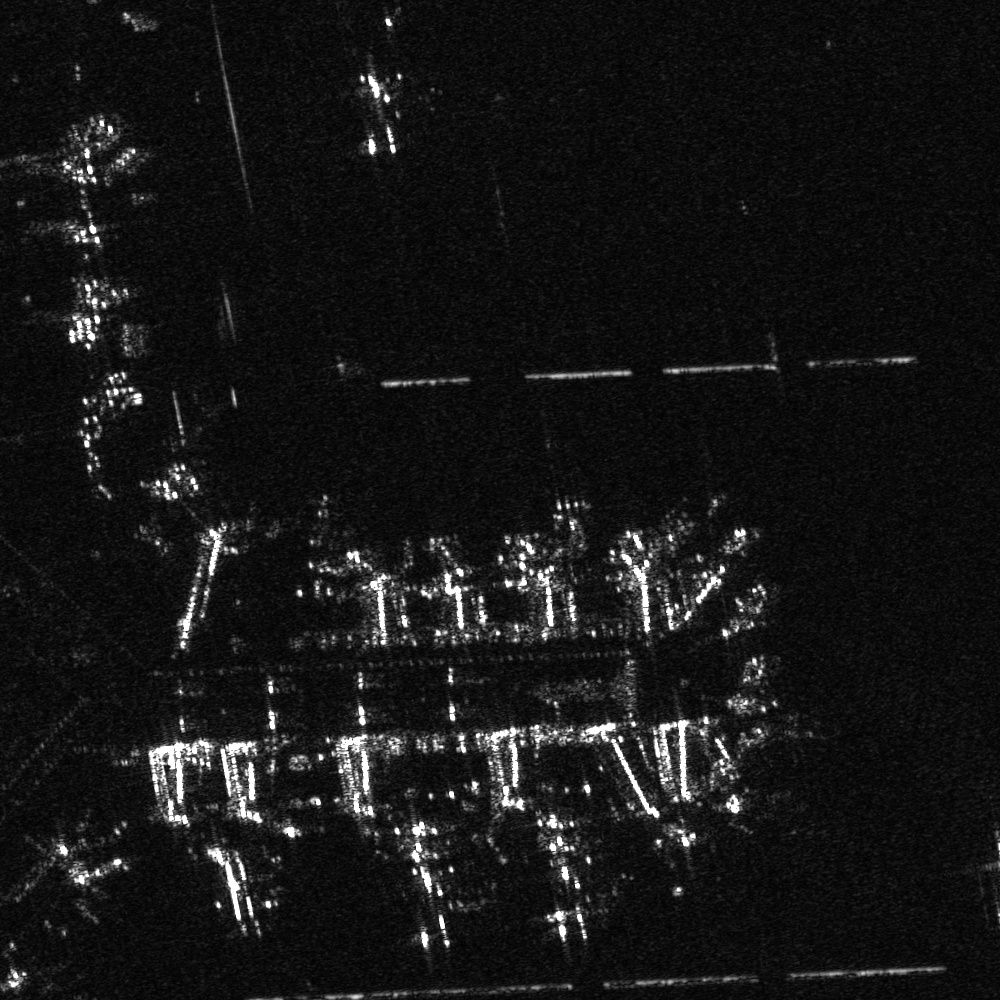A220: (189, 838, 285, 941)
A320/321: (541, 493, 597, 545)
Boeing737: (43, 839, 134, 910), (692, 786, 780, 835)
Boeing787: (358, 815, 466, 948)
other: (496, 804, 613, 937), (341, 71, 414, 158)
